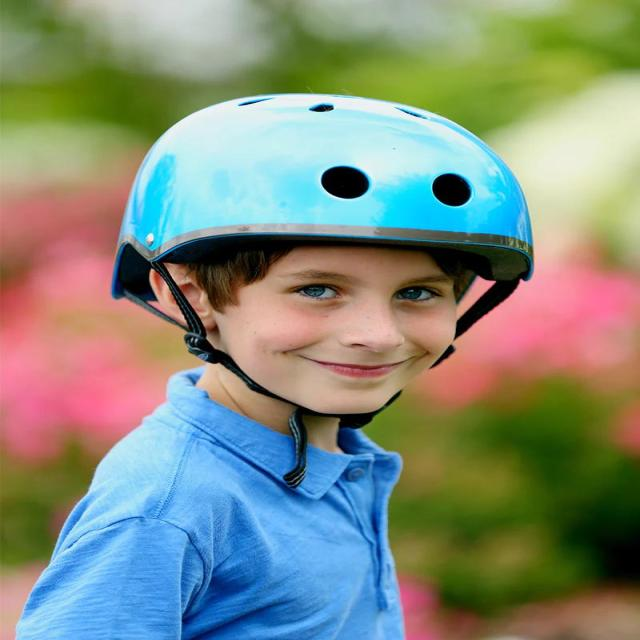Helmet: (110, 92, 536, 415)
